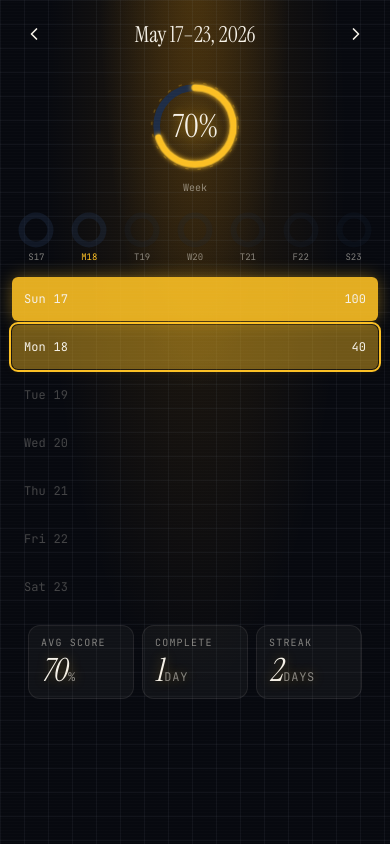
Scenario: C-m9d-002: WeekView — prev/next week nav updates layout and label › clicking Next week once from W-today reaches W-future (May 24–30, 2026)
The image size is (390, 844).
Click the button named "Next week" at x=356, y=34, box [334,12,378,56]
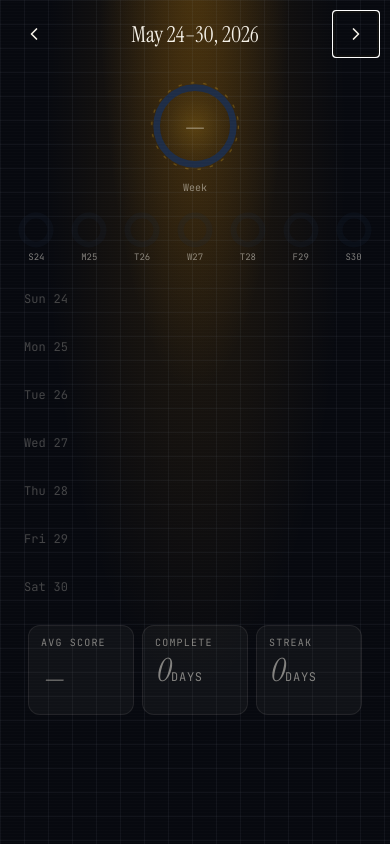
Check: the heading "May 24–30, 2026" is shown, box [131,18,259,50]
